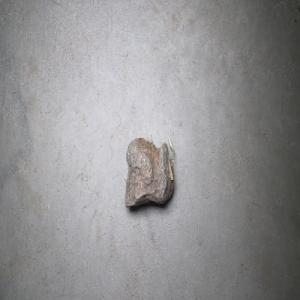Rock: (124, 134, 174, 207)
